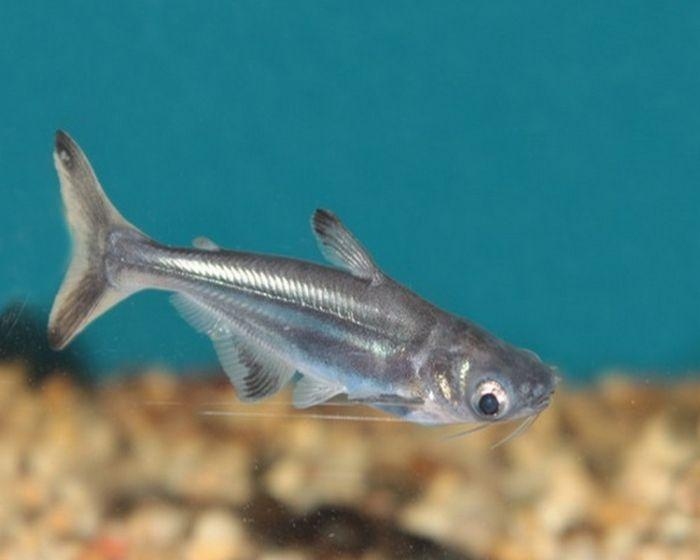Pangasius: (39, 120, 557, 471)
